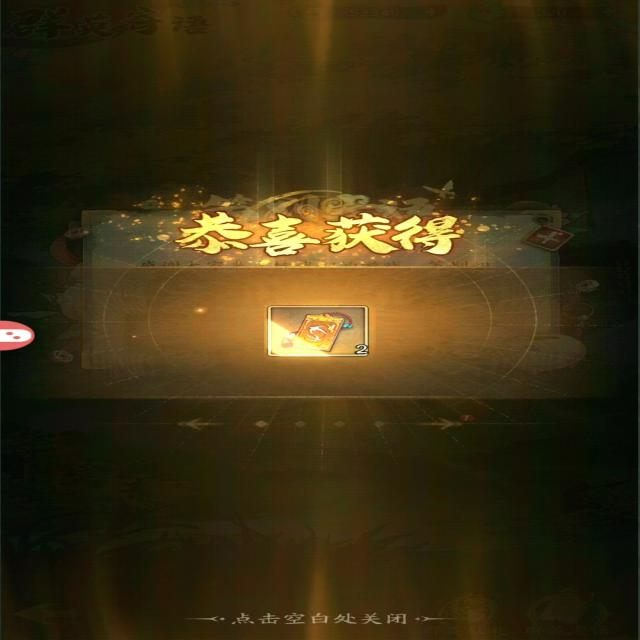hint-guide: (197, 586, 446, 640)
